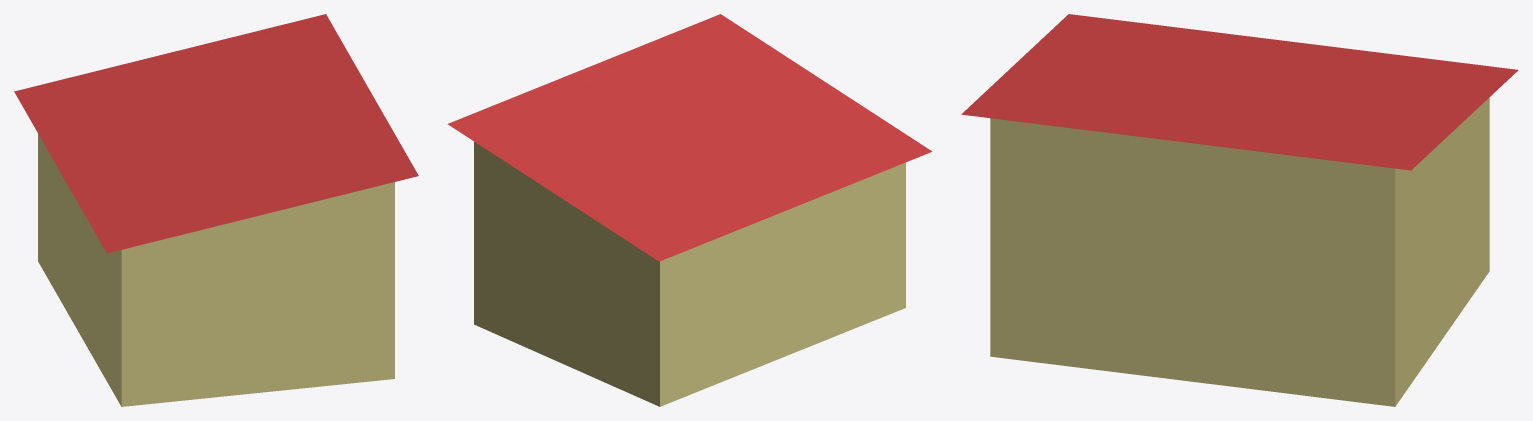
3 renders of one model, left to right at view 1: azimuth 30°, elevation 25°; view 2: azimuth 150°, elevation 25°; view 3: azimuth 270°, elevation 25°, orthographic. The views are drawn at different scales.
Size of the model in its own units: 10.59 by 11.85 by 5.83.
